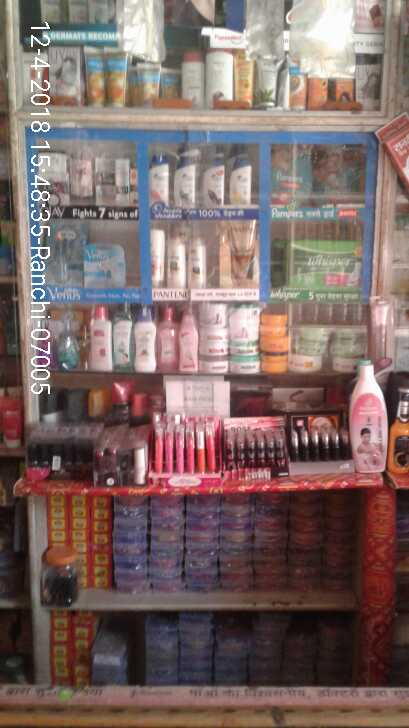venus: (42, 222, 84, 285), (85, 243, 124, 288)
